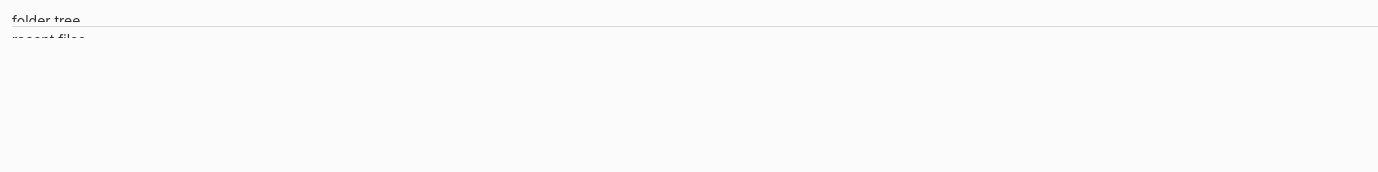
Scenario: sidebar split layout › tracks a pointer outside the separator, clamps both panes, and persists without rerendering the tree
This screenshot has width=1378, height=172.
Press the mouse on the element named "调整文件夹与最近列表高度" at (695, 27), box [12,22,1377,31]
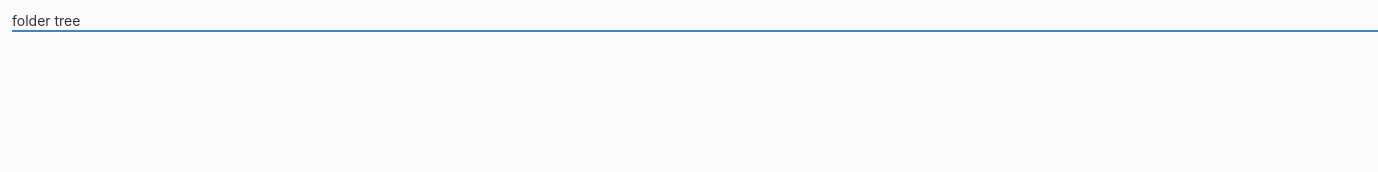
Now the element named "调整文件夹与最近列表高度" has attribute aria-valuenow="84", box [12,26,1377,35]
